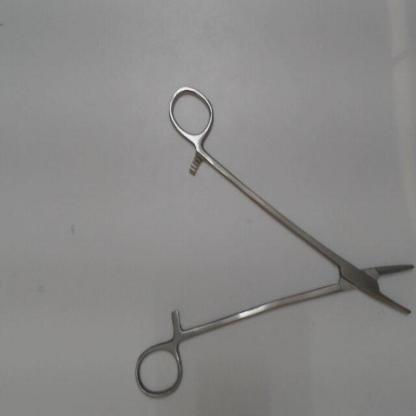8 Mayo Needle Holder: (127, 76, 416, 406)
